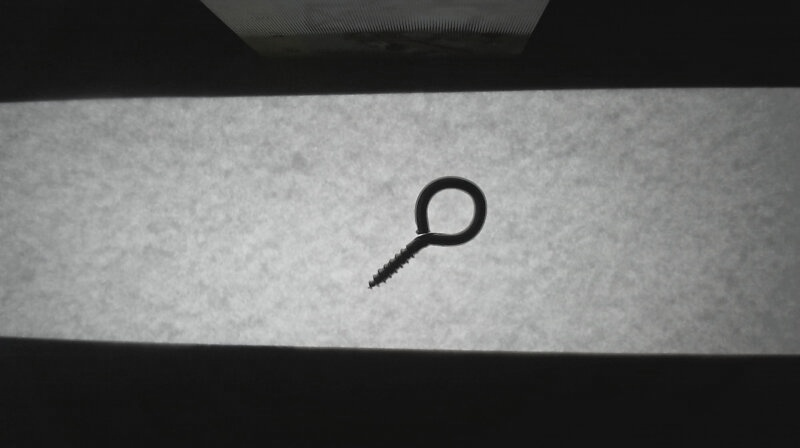O001: (363, 173, 491, 293)
